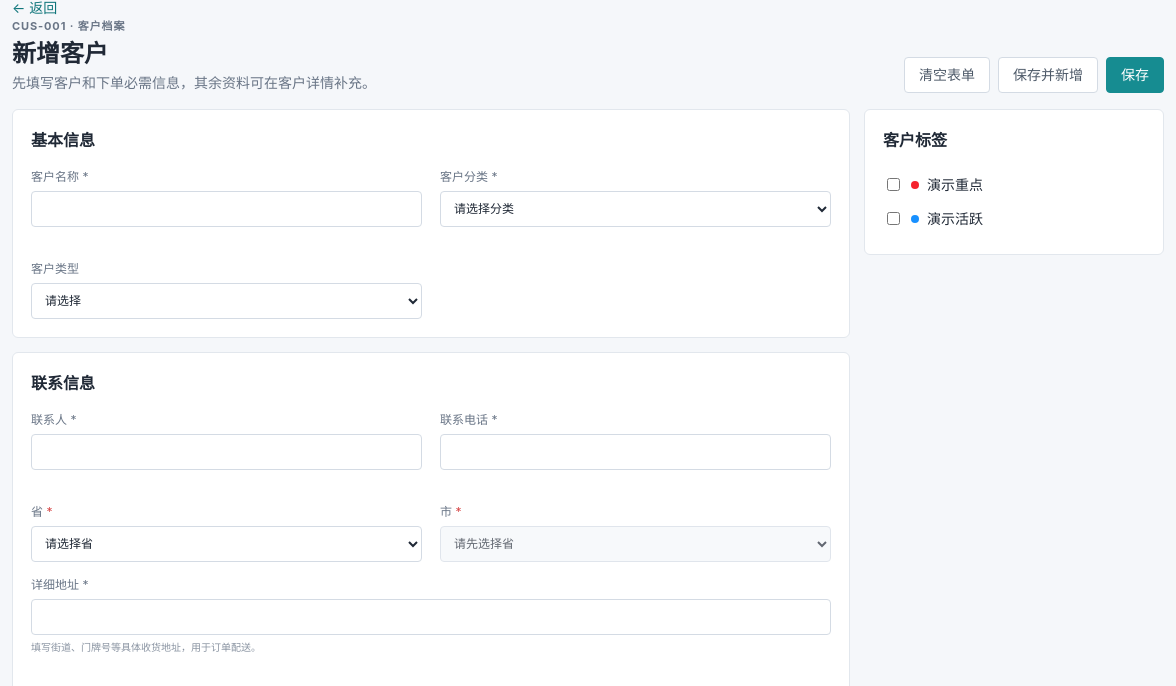
Scenario: CUS-001 customer form view › uses confirmed defaults and applies category payment-term linkage
Step 1. Select "演示华东零售" in the dropdown with test id "category" → point(636, 209), box [440,191,831,227]
(page scrolled)
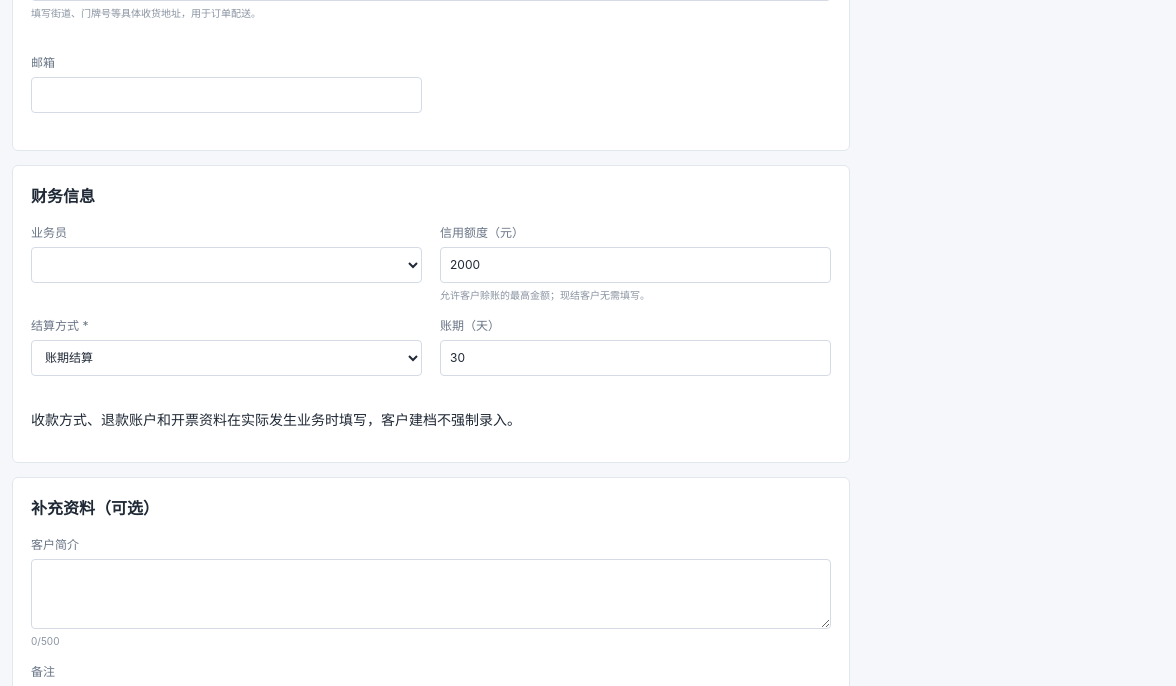
expect the dropdown with test id "settlement" shows "账期结算": met, box [31,340,422,376]
expect the number field with test id "payment-term" holds "30": met, box [440,340,831,376]
